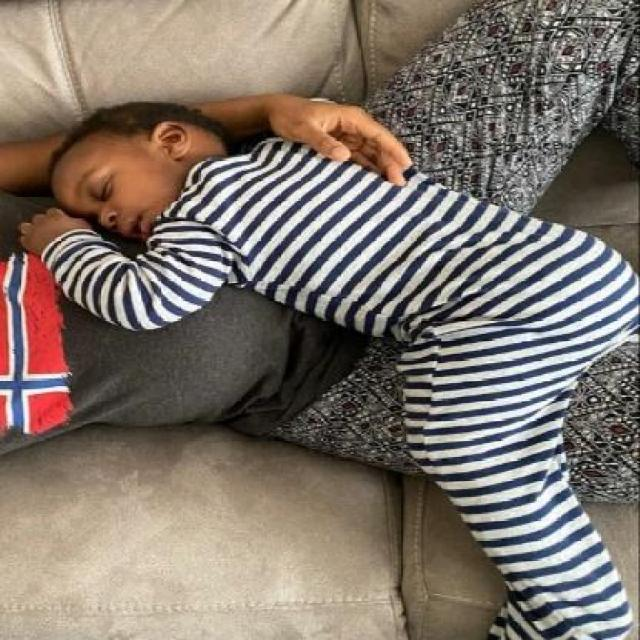baby: (14, 97, 640, 495)
